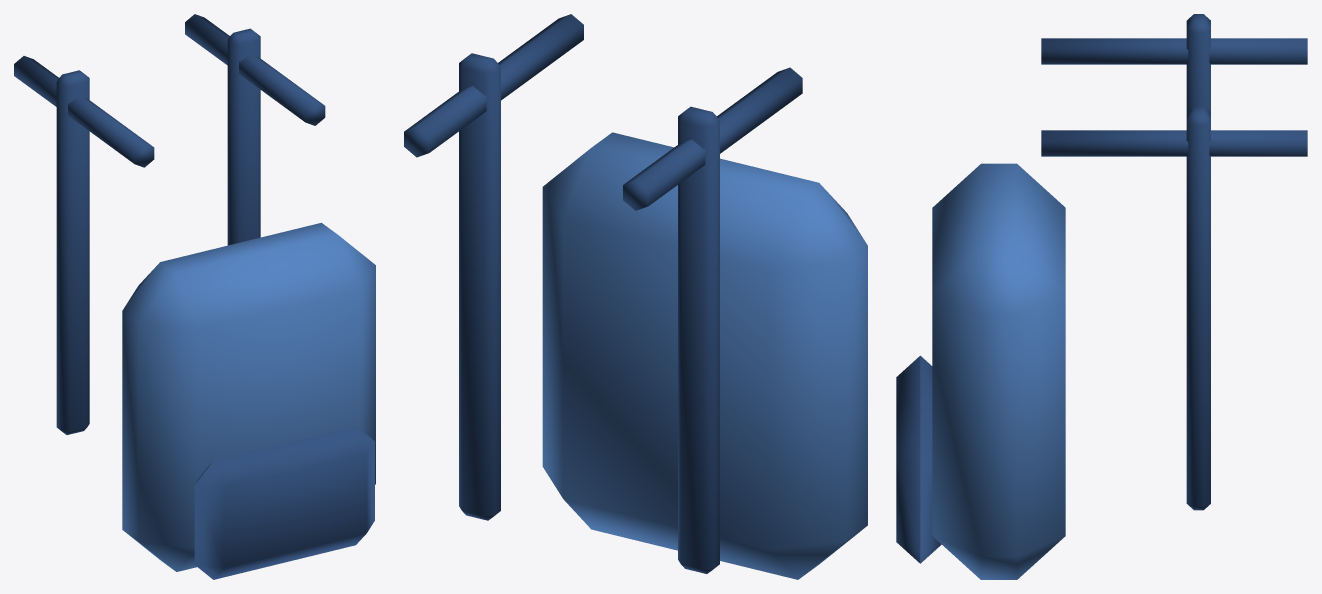
File: acc_backpack.glb
The picture shows the model from 3 angles, left to right: view 1: azimuth 30°, elevation 25°; view 2: azimuth 150°, elevation 25°; view 3: azimuth 270°, elevation 25°; orthographic projection. The views are drawn at different scales.
Parts seen in each view (by area): view 1: Body; view 2: Body; view 3: Body.
Boxes of the visible parts, left/top/right/bottom form: Body: left=14, top=14, right=375, bottom=579; Body: left=404, top=14, right=867, bottom=579; Body: left=896, top=14, right=1307, bottom=579.
Bounding box in the file's own units: 0.25 × 0.43 × 0.34.
